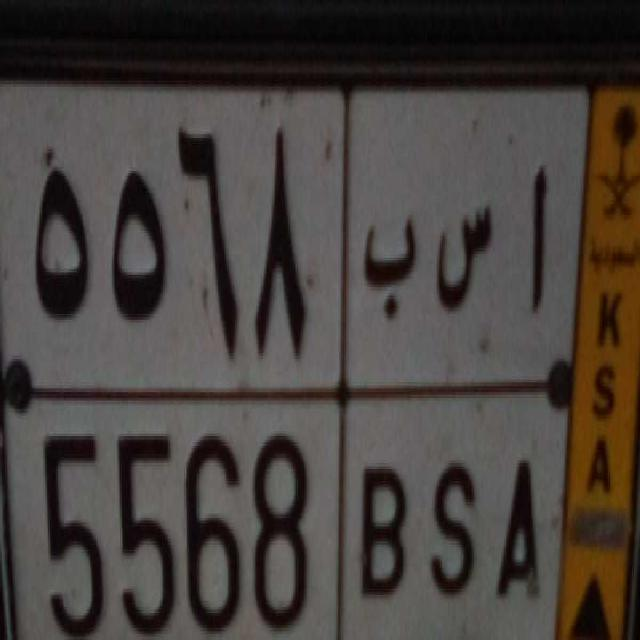license_plate: (26, 387, 554, 640)
